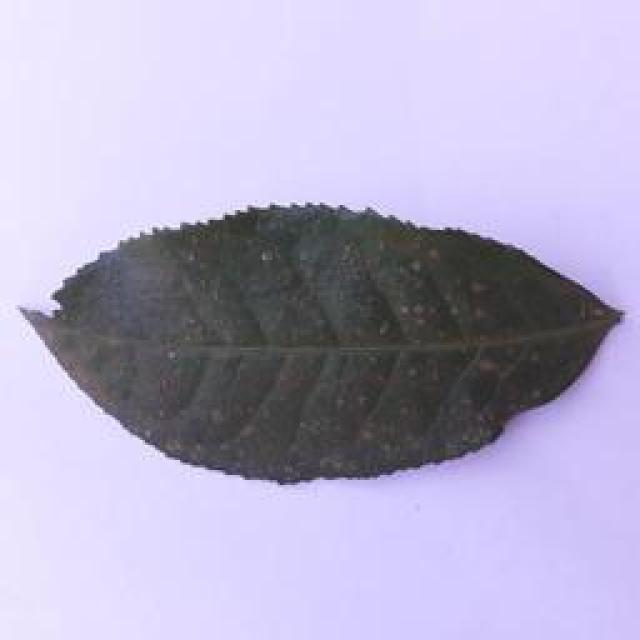Algal Leaf Spot: (16, 189, 637, 485)
